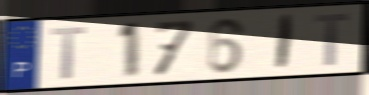1: (117, 20, 142, 80)
6: (207, 16, 246, 76)
7: (153, 18, 196, 78)
I: (273, 12, 296, 73)
T: (49, 25, 89, 82), (312, 11, 352, 68)
